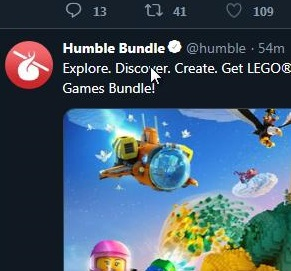cursor: (149, 65, 162, 86)
